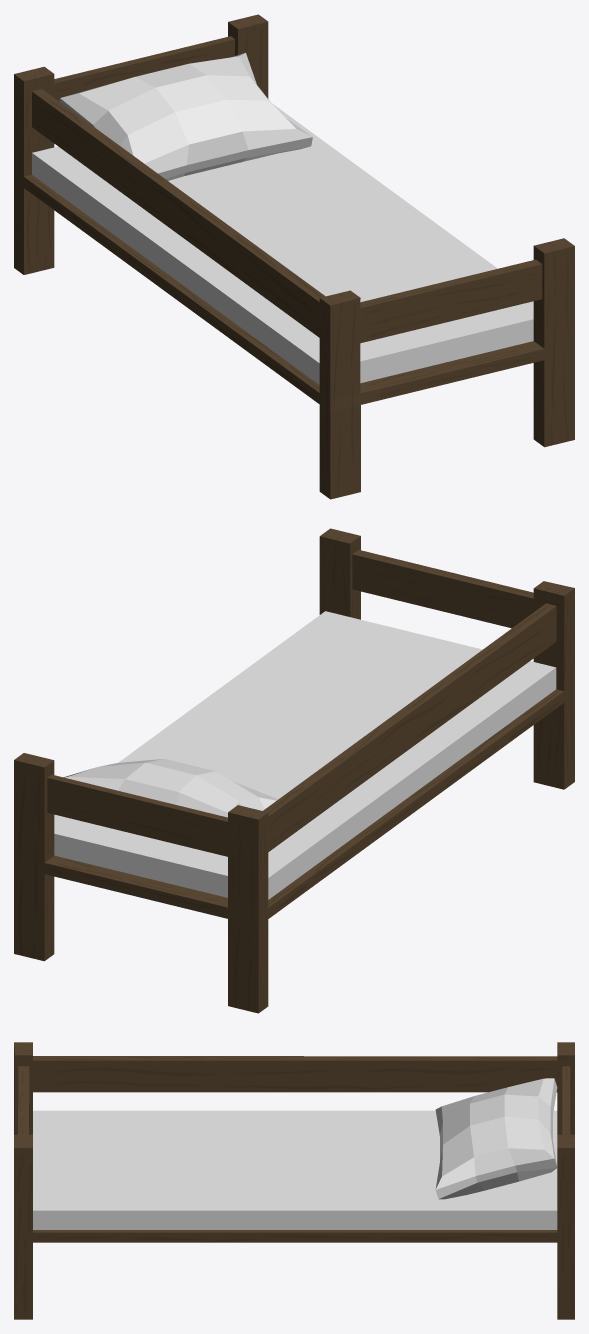
File: bed2.fbx
3 renders of one model, top to bottom at view 1: azimuth 30°, elevation 25°; view 2: azimuth 150°, elevation 25°; view 3: azimuth 270°, elevation 25°, orthographic. The views are drawn at different scales.
Parts seen in each view (by area): view 1: bed2; view 2: bed2; view 3: bed2.
Boxes of the visible parts, bbox=[...] form: bed2: bbox=[14, 14, 574, 499]; bed2: bbox=[14, 528, 574, 1013]; bed2: bbox=[14, 1042, 574, 1319].
Size of the model in its own units: 111 by 84.36 by 250.
1 material, 1 textured.
